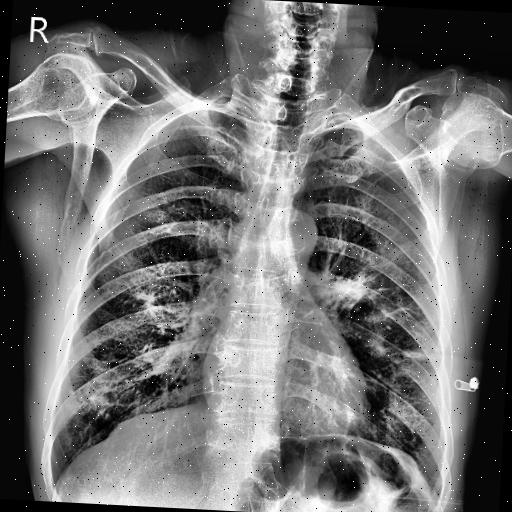0- Aortic enlargement: (266, 207, 320, 265), (265, 207, 322, 258)
13- Pulmonary fibrosis: (302, 256, 410, 328), (332, 271, 425, 323), (65, 384, 114, 420), (123, 284, 164, 320), (364, 341, 426, 360), (120, 290, 160, 304), (400, 349, 442, 361), (366, 336, 389, 354)
